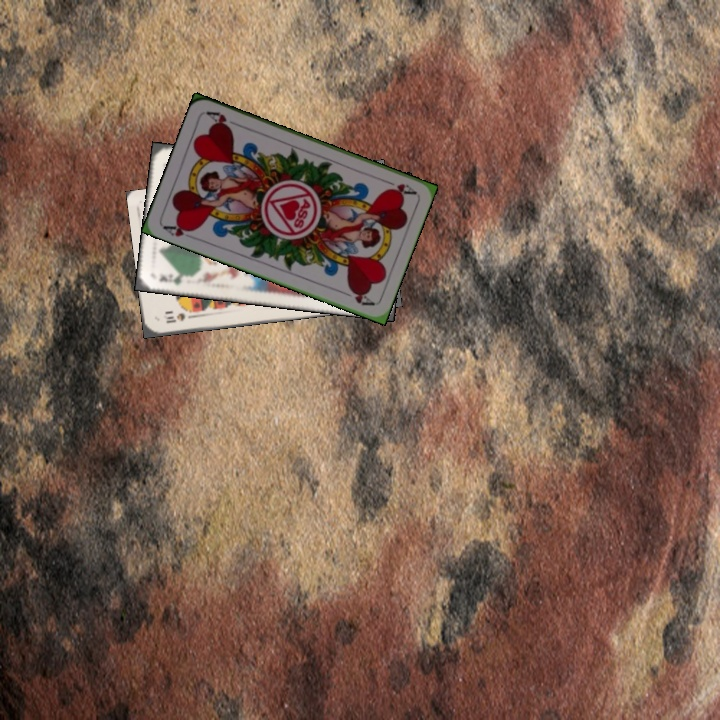GK: (155, 270, 192, 288)
HA: (159, 219, 199, 242), (379, 175, 418, 197)
S10: (160, 309, 197, 326)
